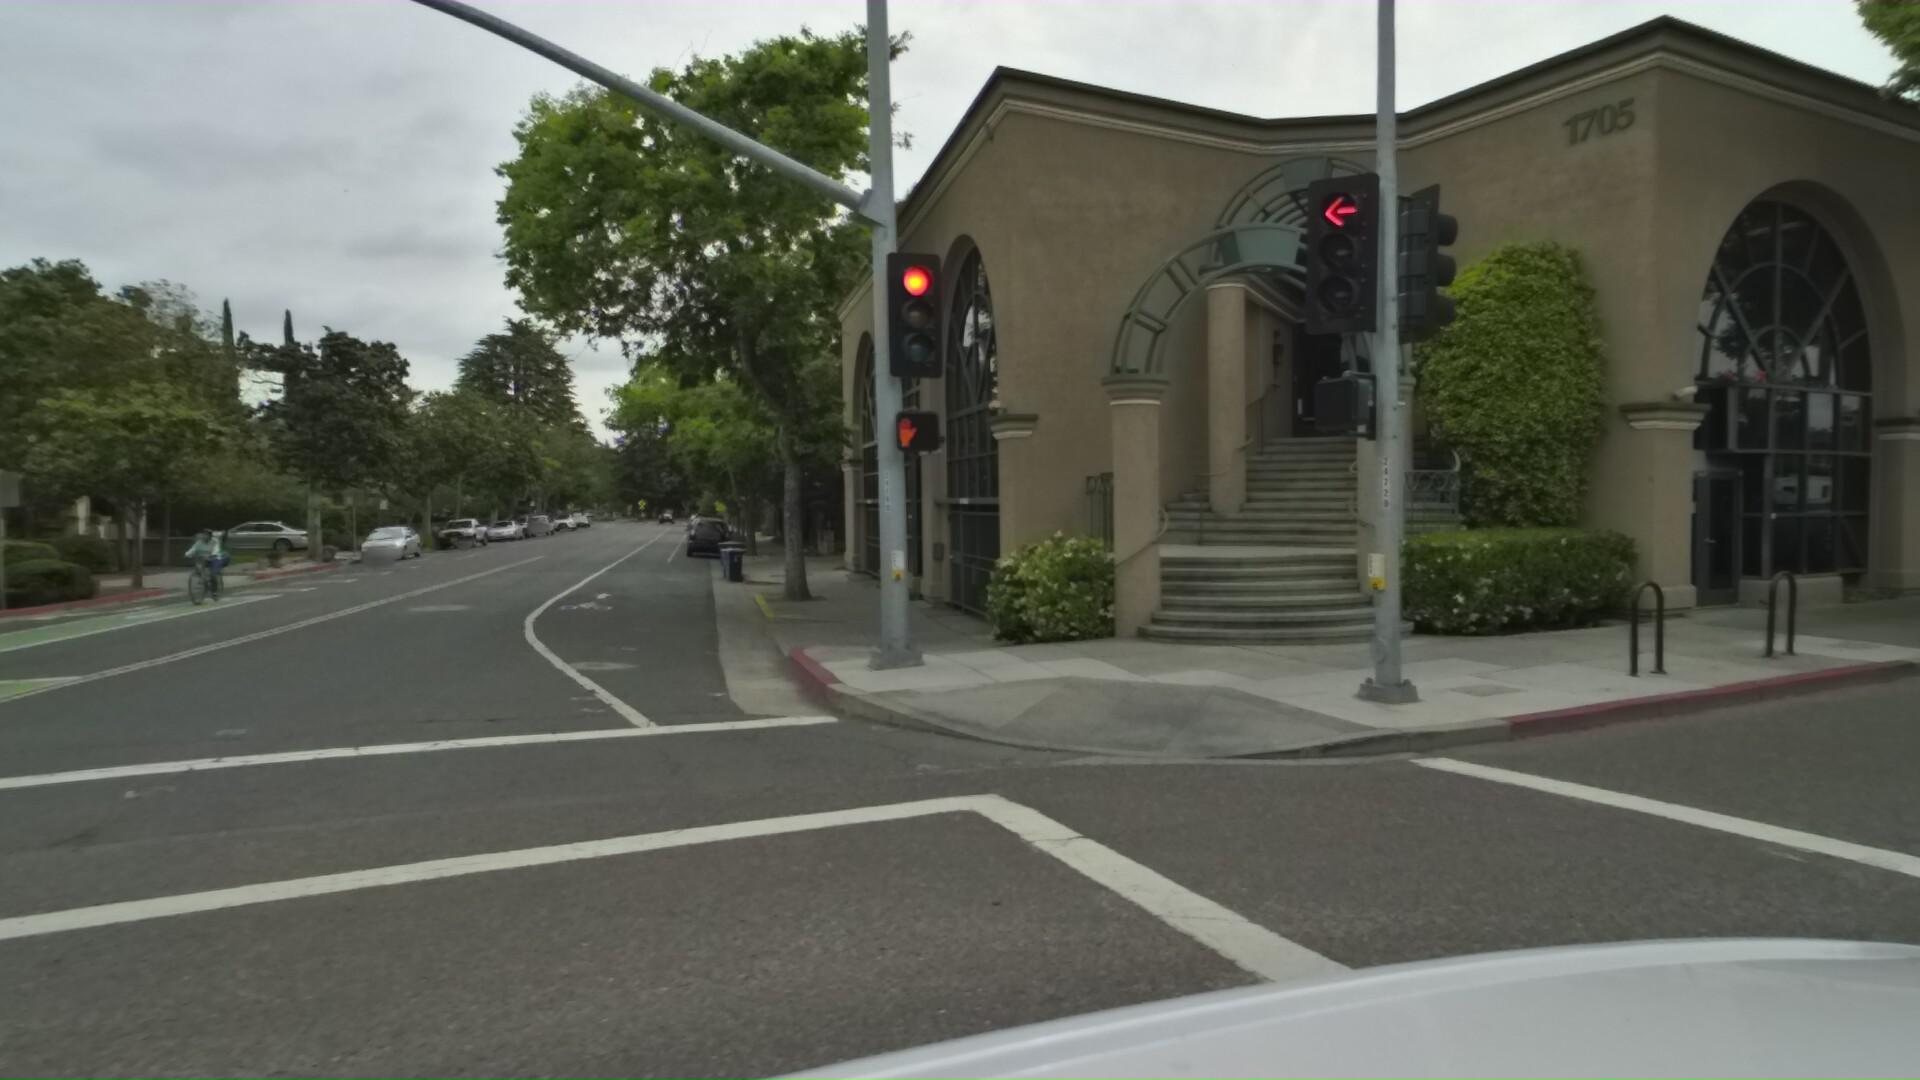bicycle: (198, 524, 274, 607)
car: (372, 520, 439, 564), (446, 513, 502, 549), (698, 513, 742, 556), (694, 512, 738, 549), (500, 517, 527, 539)
